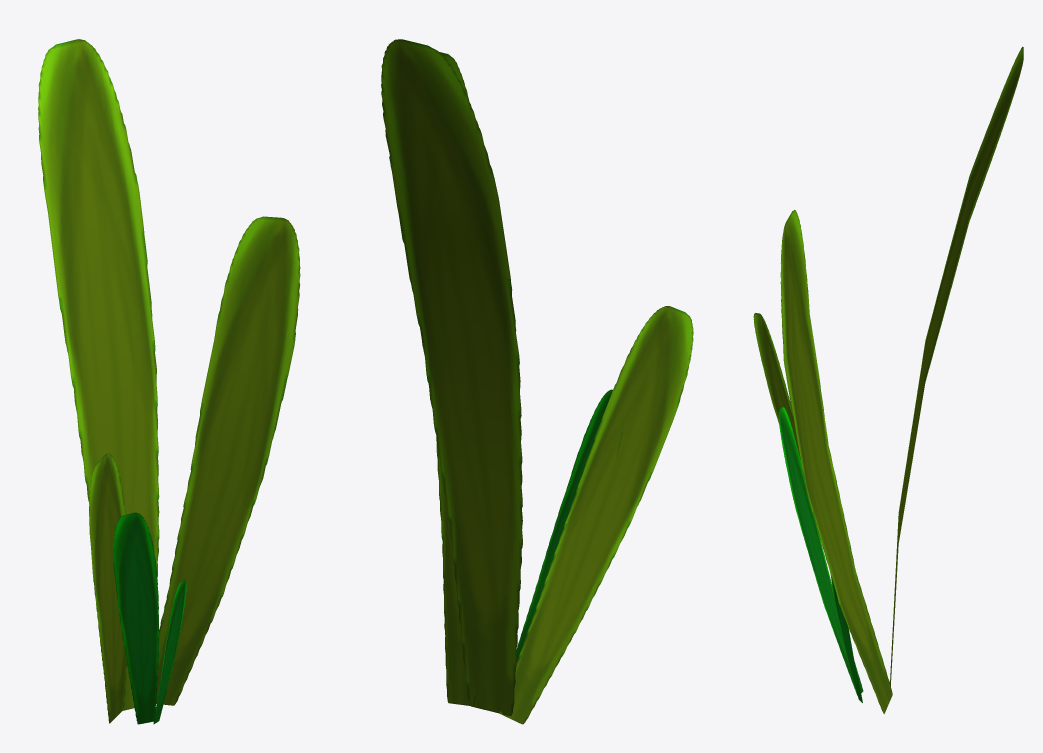
The model's file is 7_Malla_Arbusto.fbx.
The picture shows the model from 3 angles, left to right: view 1: azimuth 30°, elevation 25°; view 2: azimuth 150°, elevation 25°; view 3: azimuth 270°, elevation 25°; orthographic projection. The views are drawn at different scales.
Parts seen in each view (by area): view 1: Arbustos_Varios1; view 2: Arbustos_Varios1; view 3: Arbustos_Varios1.
Boxes of the visible parts, x1,y1,x2,y2 form: Arbustos_Varios1: (38, 39, 300, 724); Arbustos_Varios1: (381, 39, 693, 724); Arbustos_Varios1: (753, 46, 1023, 713).
Bounding box in the file's own units: 38.97 × 95.2 × 36.74.
